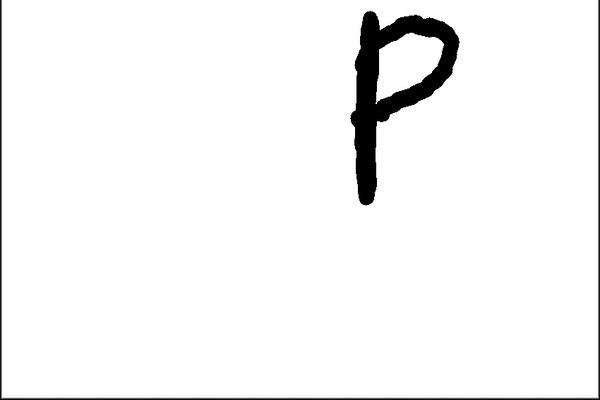P: (343, 4, 464, 208)
